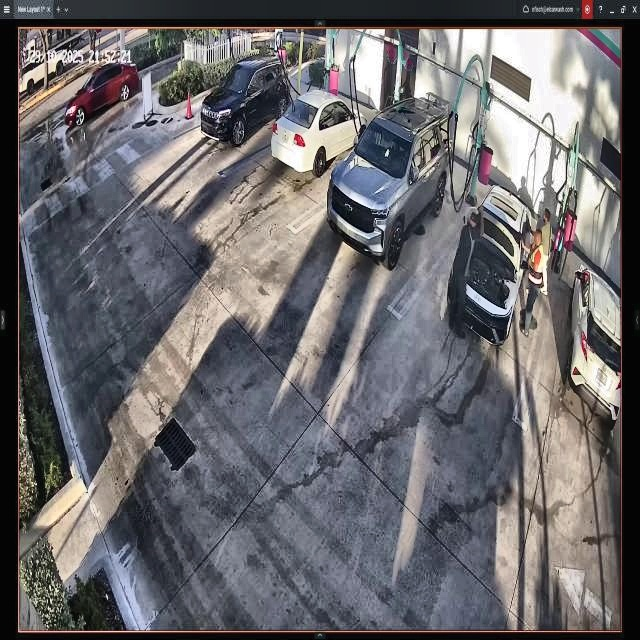Car: (328, 101, 452, 263), (449, 183, 530, 345), (203, 58, 290, 154), (272, 92, 367, 171)
